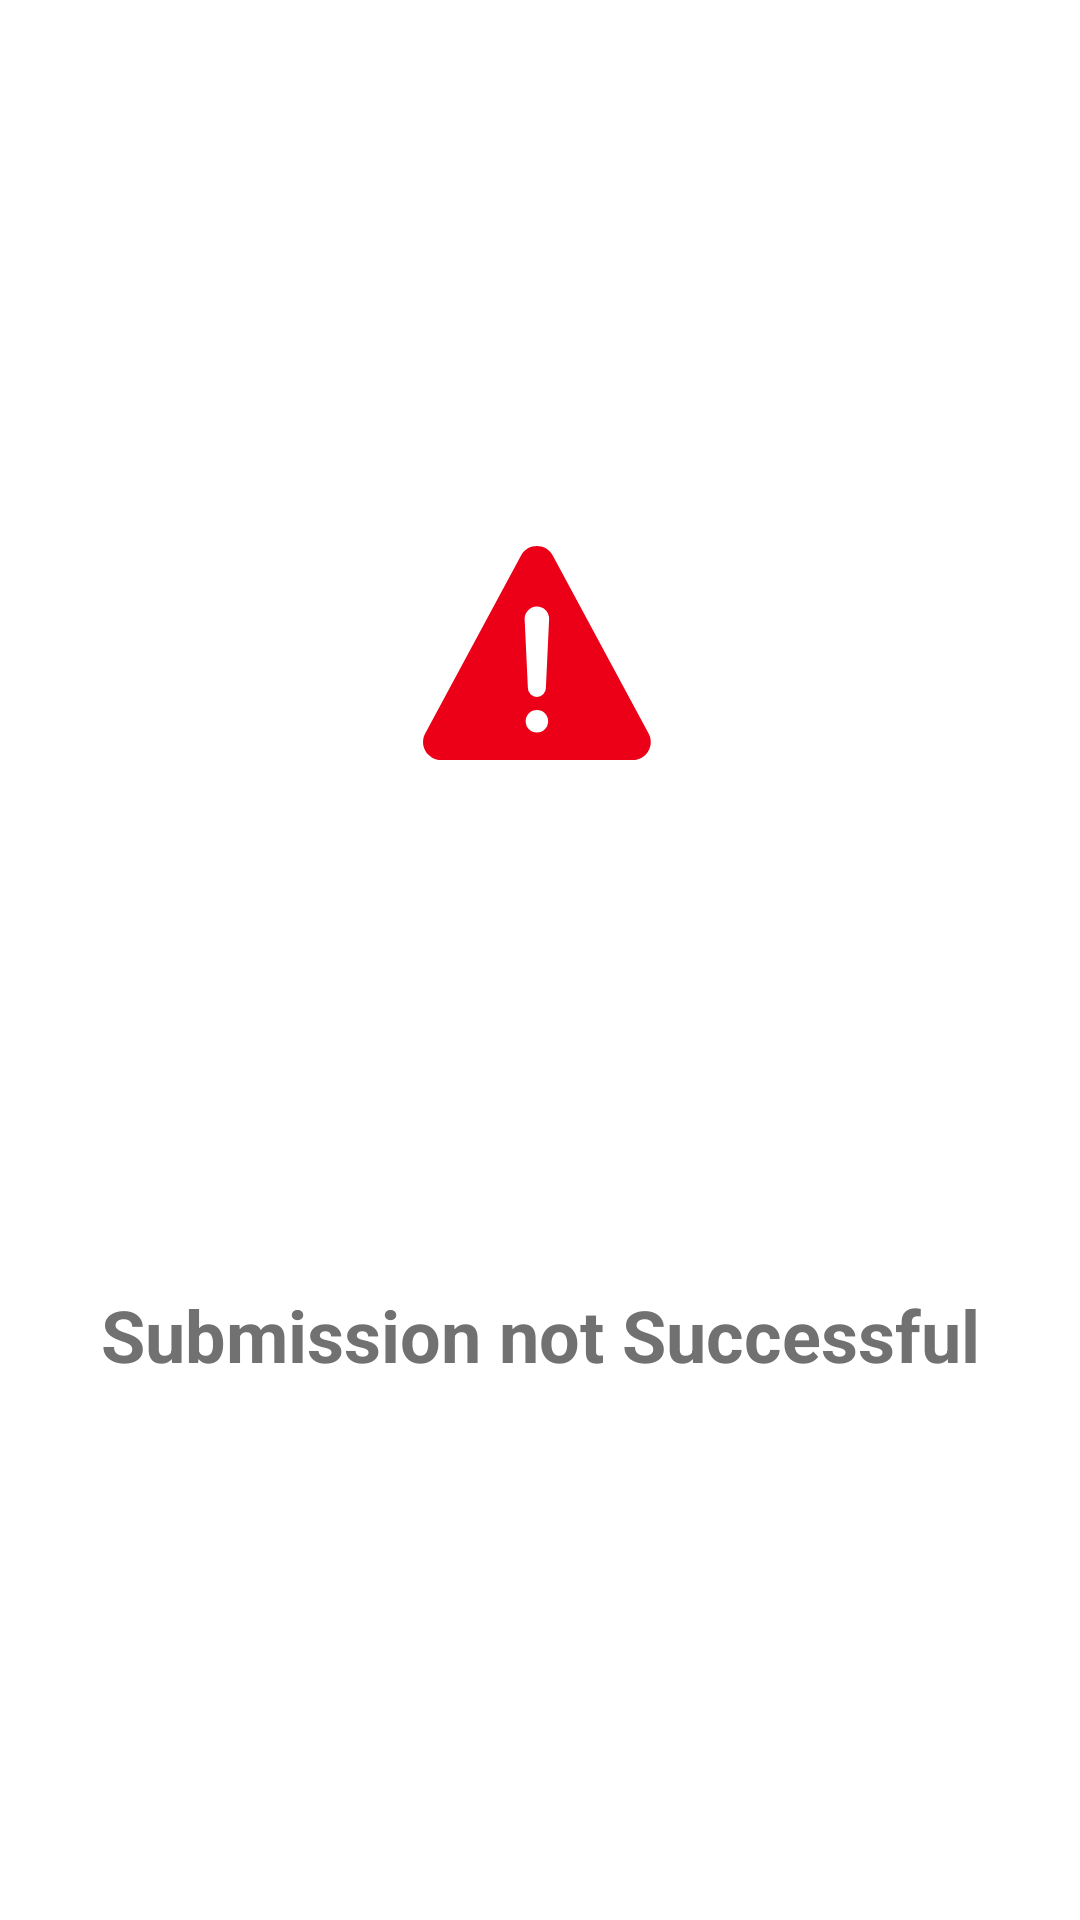

Icon click points for this 1080x1920 phone screenshot, format [x,y]:
warning: [537,653]
